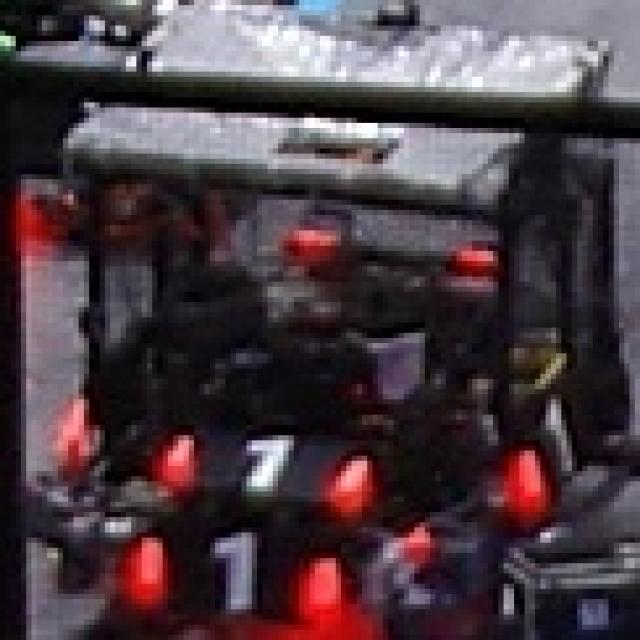R1: (131, 522, 346, 620), (142, 420, 378, 502), (498, 394, 593, 517)
